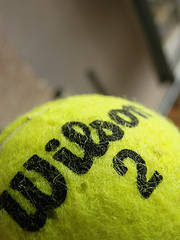tennis ball: (1, 93, 180, 239)
